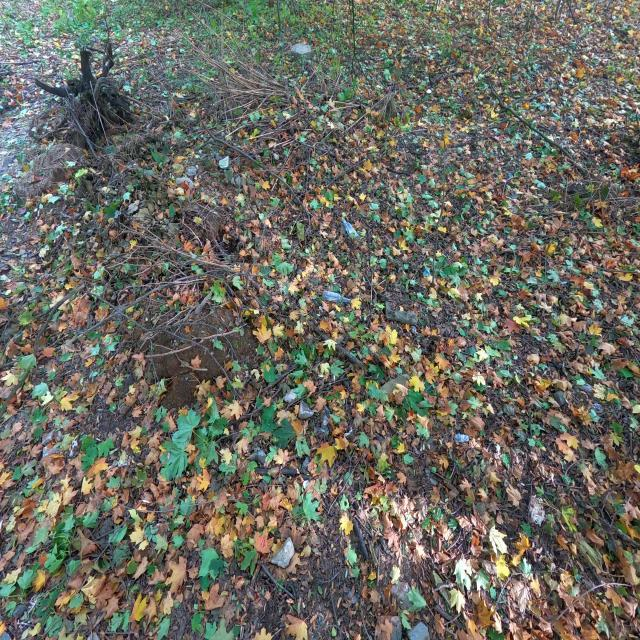rubbish: (322, 289, 353, 305), (341, 216, 359, 240), (454, 431, 469, 444), (344, 426, 353, 437), (423, 265, 430, 277)
